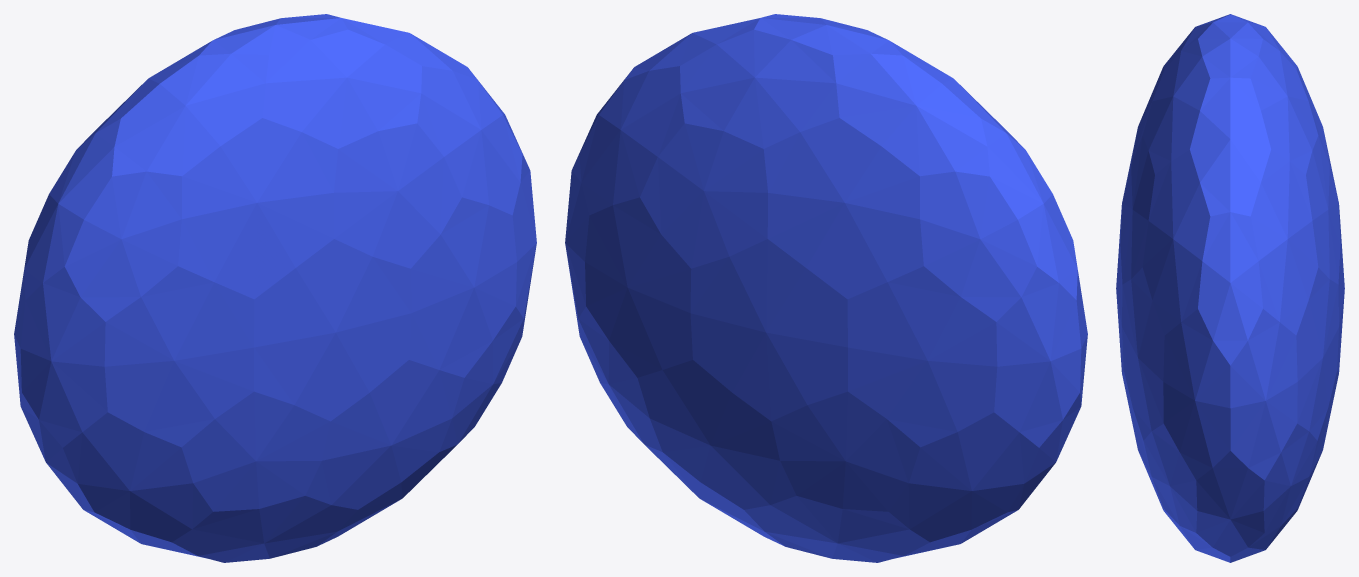
The model's file is barrier.obj.
The picture shows the model from 3 angles, left to right: view 1: azimuth 30°, elevation 25°; view 2: azimuth 150°, elevation 25°; view 3: azimuth 270°, elevation 25°; orthographic projection. The views are drawn at different scales.
Parts seen in each view (by area): view 1: ICO球.001; view 2: ICO球.001; view 3: ICO球.001.
Boxes of the visible parts, x1,y1,x2,y2 form: ICO球.001: (14, 14, 536, 562); ICO球.001: (565, 14, 1087, 562); ICO球.001: (1116, 14, 1344, 562).
Size of the model in its own units: 37.18 by 36.74 by 15.24.
Materials: 1 (1 with a texture image).
